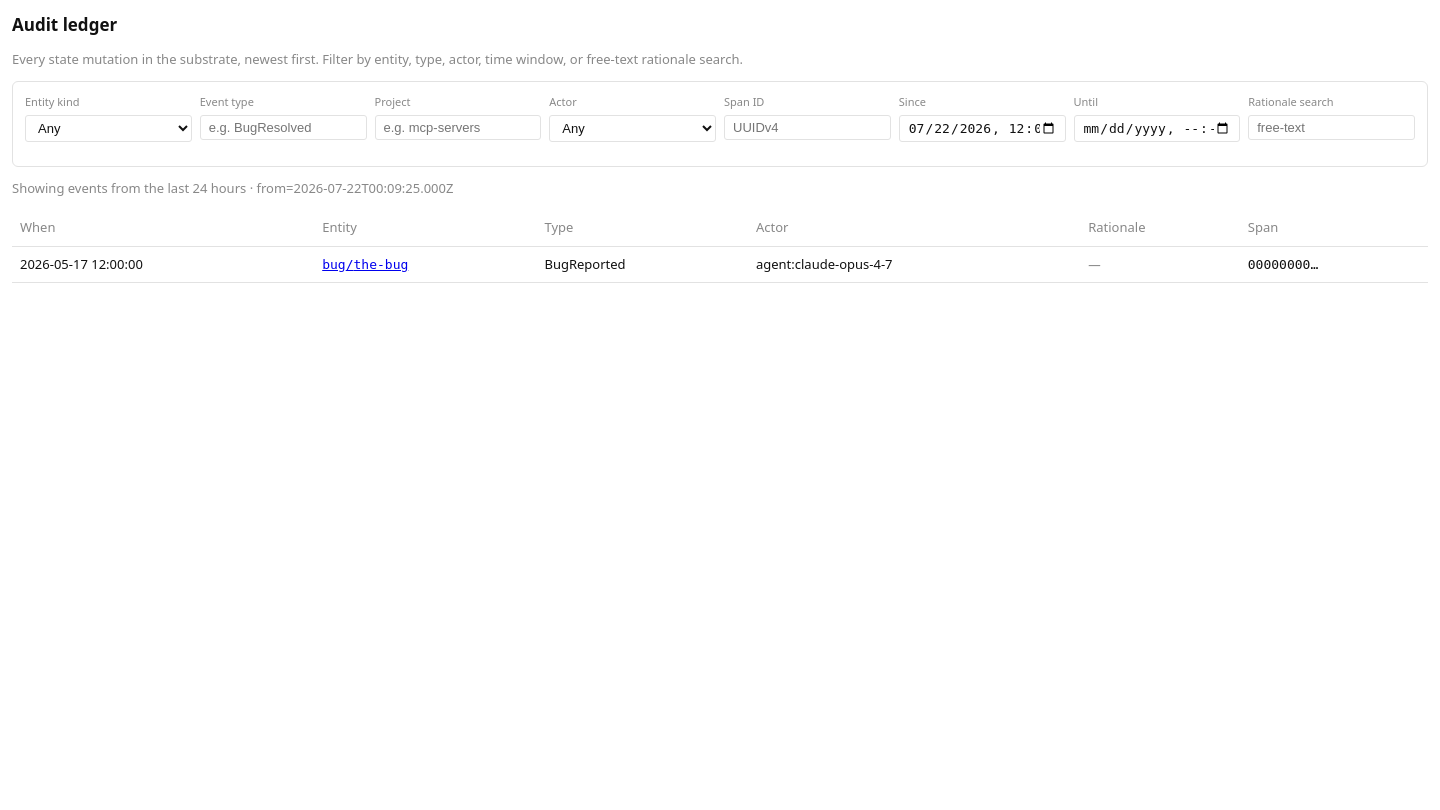
Test: AuditLedgerPage — event detail drawer › opens the drawer when a result row is clicked
Click the row named "Open BugReported event details".
click(720, 264)  # box [12,246,1428,282]
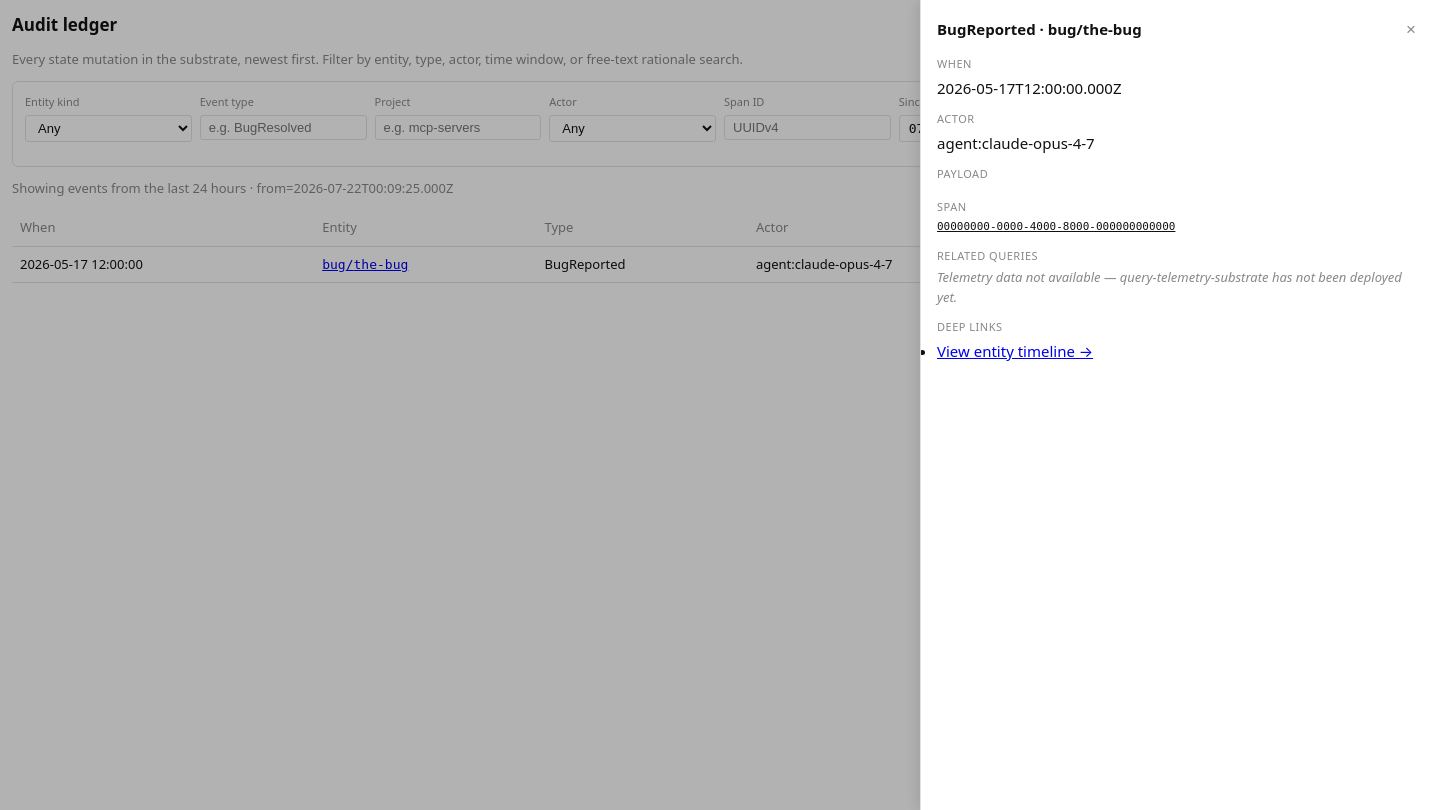
Now the dialog with test id "event-detail-drawer" is shown, box [920,0,1439,809]
